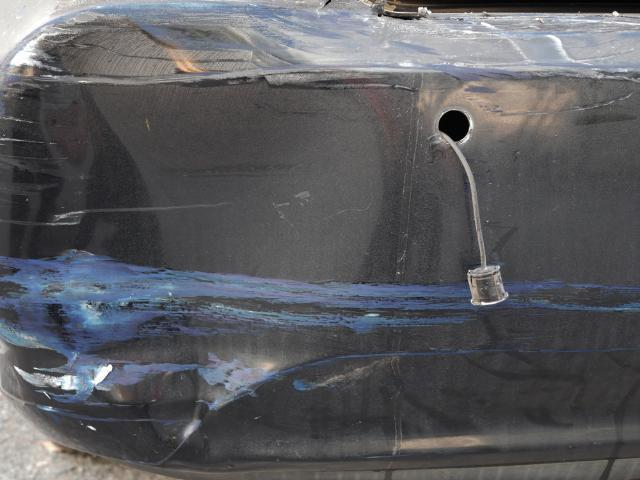dent: (0, 81, 379, 441)
no part: (438, 110, 473, 142)
scratch: (0, 0, 640, 163), (273, 276, 640, 393), (0, 255, 156, 436)
